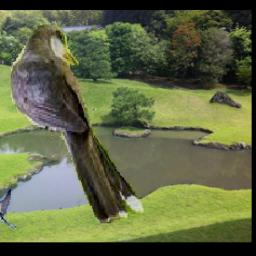Cuckoo: (10, 24, 145, 224)
Swallow: (0, 188, 15, 231)
